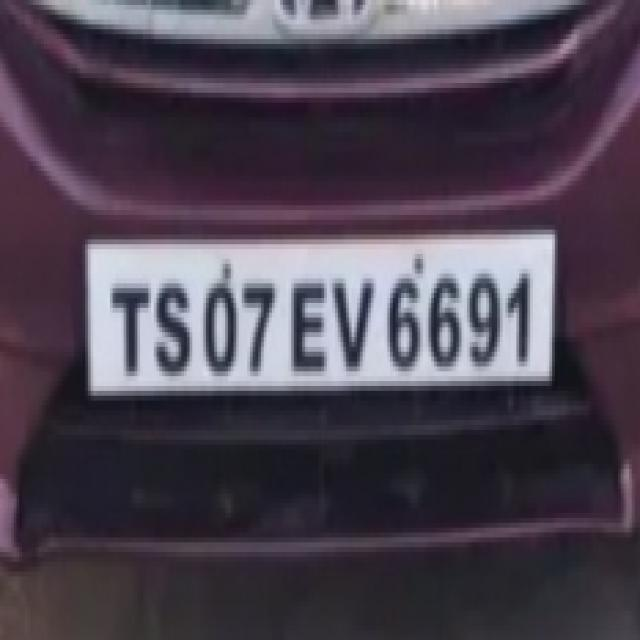0: (198, 266, 240, 382)
1: (504, 257, 538, 373)
6: (386, 263, 422, 385), (427, 264, 465, 379)
7: (236, 278, 282, 384)
9: (466, 264, 503, 384)
E: (290, 261, 332, 387)
S: (152, 270, 196, 384)
T: (106, 275, 153, 387)
V: (329, 272, 376, 370)
